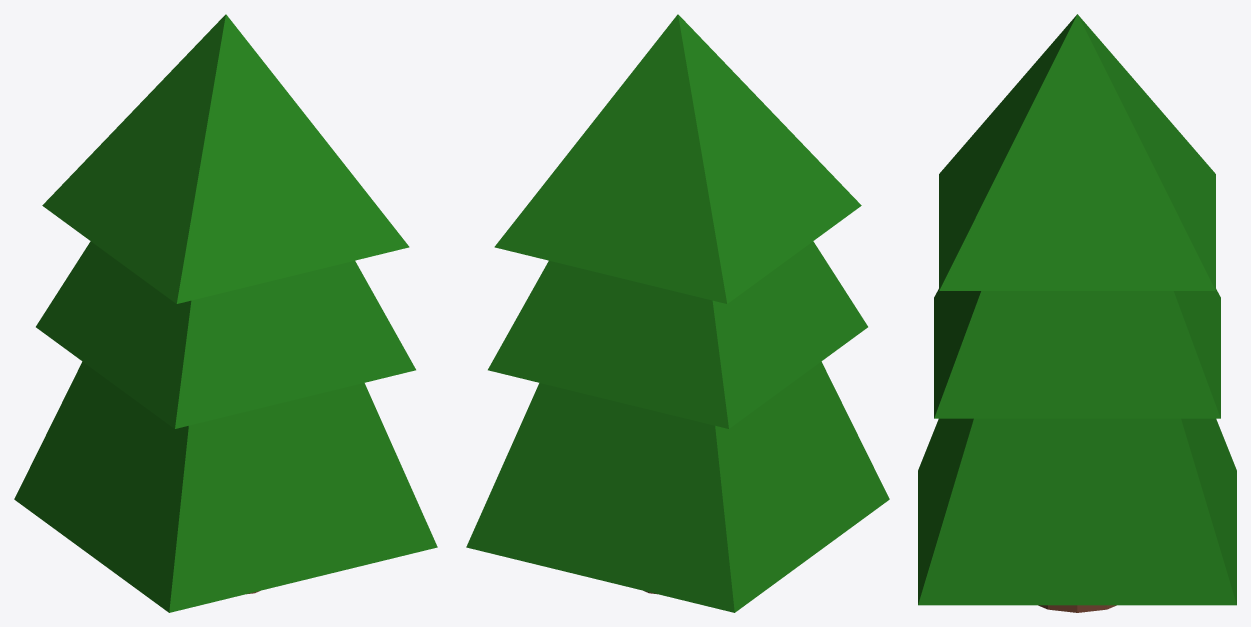
Rendered from Tree_18_summer_mat.fbx.
3 views of the same model, side by side, from view 1: azimuth 30°, elevation 25°; view 2: azimuth 150°, elevation 25°; view 3: azimuth 270°, elevation 25° (orthographic). The views are drawn at different scales.
Parts seen in each view (by area): view 1: Tree_18_summer_mat; view 2: Tree_18_summer_mat; view 3: Tree_18_summer_mat.
Part boxes in pixels (left/top/right/bottom): Tree_18_summer_mat: left=14, top=14, right=437, bottom=612; Tree_18_summer_mat: left=466, top=14, right=889, bottom=612; Tree_18_summer_mat: left=918, top=14, right=1236, bottom=612.
Bounding box in the file's own units: 95.96 × 191 × 95.96.
